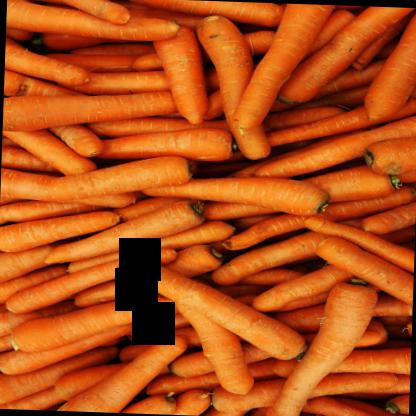carrot: (122, 258, 314, 359), (270, 272, 373, 415), (278, 3, 415, 109), (232, 2, 339, 132), (189, 11, 281, 158), (252, 111, 415, 188), (248, 112, 415, 187), (46, 334, 190, 414), (11, 255, 168, 317), (46, 203, 202, 264), (2, 87, 182, 138), (14, 292, 171, 350), (6, 0, 184, 46), (141, 174, 330, 216), (314, 236, 414, 306), (45, 156, 192, 203), (366, 6, 415, 122), (0, 208, 120, 254), (4, 31, 94, 84)
